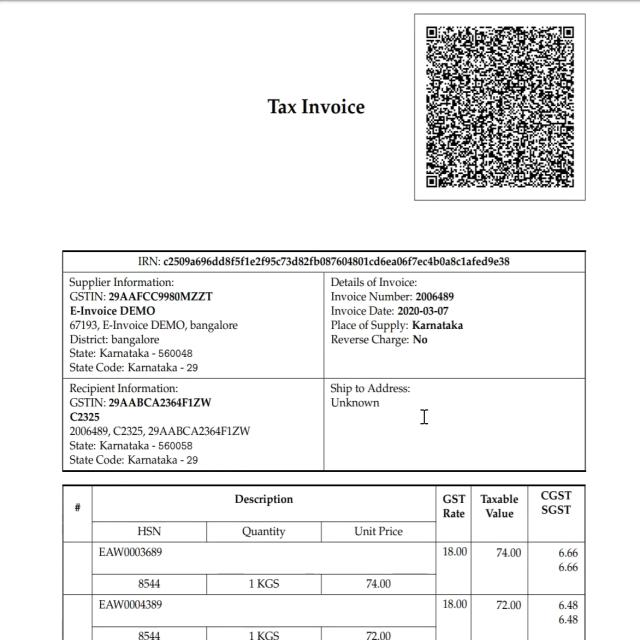QRCode: (422, 21, 579, 192)
